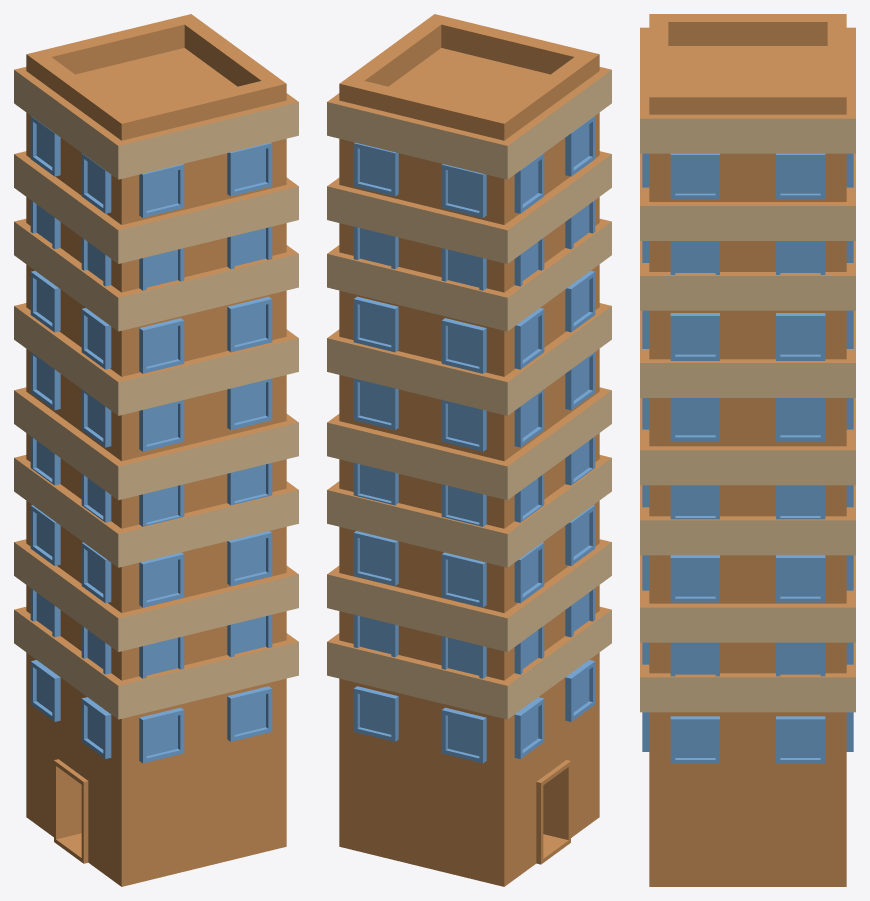
The model's file is Apartment_Building.fbx.
3 views of the same model, side by side, from view 1: azimuth 30°, elevation 25°; view 2: azimuth 150°, elevation 25°; view 3: azimuth 270°, elevation 25° (orthographic). The views are drawn at different scales.
Parts seen in each view (by area): view 1: Cube, Cube.002, Cube.001; view 2: Cube, Cube.002, Cube.001; view 3: Cube, Cube.001, Cube.002.
Boxes of the visible parts, x1,y1,x2,y2 form: Cube: (14, 14, 298, 886); Cube.002: (139, 142, 272, 763); Cube.001: (30, 116, 111, 758); Cube: (327, 14, 611, 886); Cube.002: (353, 142, 486, 763); Cube.001: (514, 116, 595, 758); Cube: (640, 14, 855, 886); Cube.001: (670, 153, 825, 763); Cube.002: (642, 153, 853, 751).
Bounding box in the file's own units: 219 × 884 × 219.
